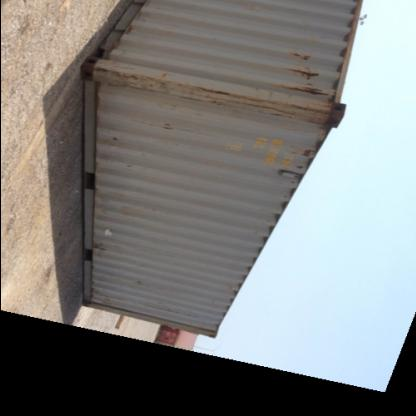Damage: (92, 67, 242, 102), (284, 50, 326, 102), (292, 104, 346, 128), (93, 223, 119, 263), (158, 116, 188, 137), (86, 289, 118, 307), (294, 141, 316, 162), (107, 130, 124, 152), (132, 275, 154, 290)
